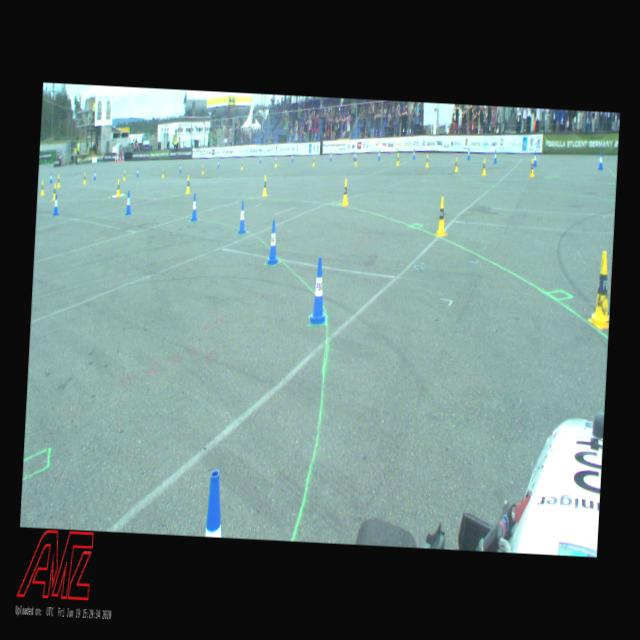blue_cone: (310, 258, 328, 324), (266, 220, 282, 265), (238, 200, 248, 234), (190, 194, 198, 221), (53, 194, 60, 216), (126, 191, 132, 215), (598, 152, 603, 170), (533, 151, 537, 167), (412, 148, 416, 160), (494, 150, 497, 163), (49, 172, 52, 184), (94, 170, 97, 180), (468, 147, 470, 160), (137, 168, 139, 178), (180, 163, 182, 173), (378, 150, 380, 160), (218, 159, 220, 168), (330, 152, 332, 161), (354, 151, 356, 160), (260, 155, 262, 163), (292, 154, 294, 162)
yellow_cone: (588, 251, 612, 328), (435, 196, 449, 236), (342, 178, 350, 205), (262, 176, 268, 196), (530, 158, 535, 176), (186, 176, 191, 193), (116, 179, 120, 197), (482, 158, 486, 176), (40, 181, 44, 196), (454, 157, 458, 172), (53, 183, 56, 200), (354, 155, 358, 166), (58, 175, 61, 188), (426, 154, 429, 167), (396, 154, 399, 166), (162, 168, 165, 178), (84, 172, 86, 184), (124, 170, 126, 180), (241, 160, 243, 170), (313, 156, 315, 166), (275, 158, 277, 167), (202, 166, 204, 174)
